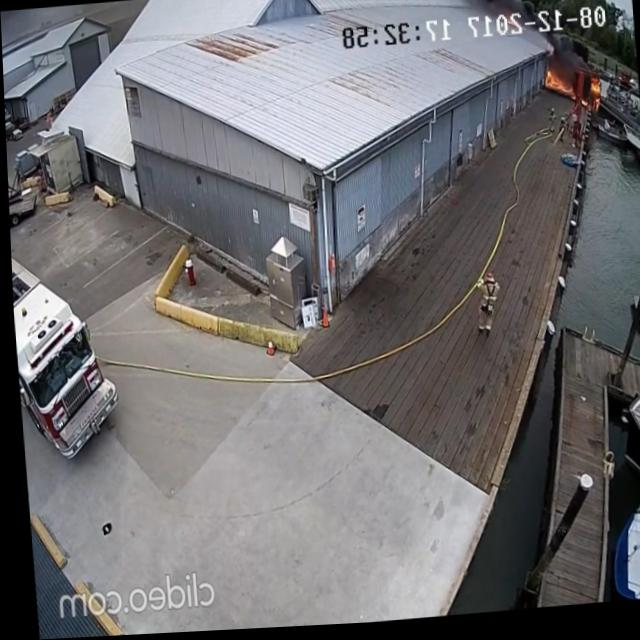fire: (540, 66, 574, 110), (582, 82, 606, 123)
